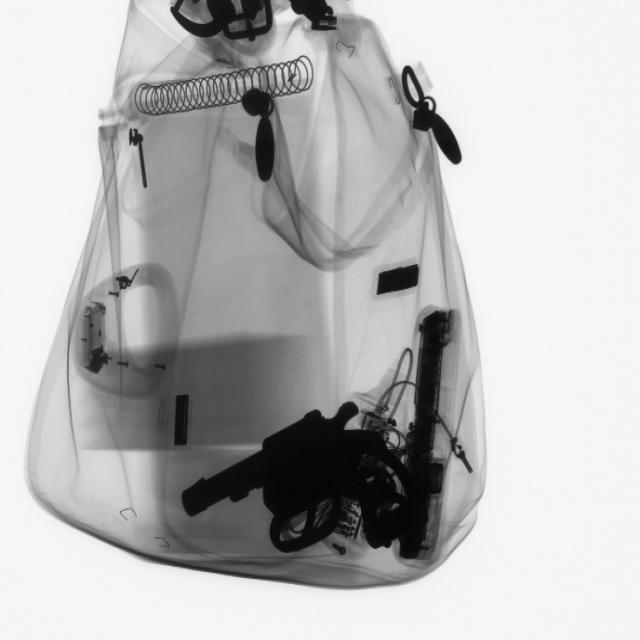GUN: (181, 398, 418, 553)
